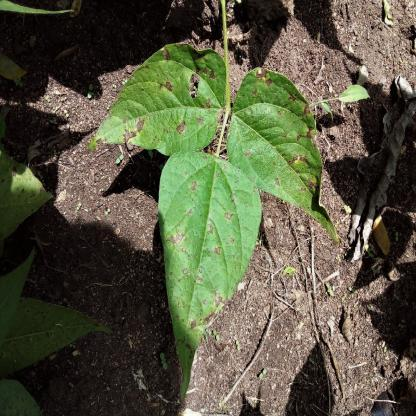Beans_Angular_LeafSpot: (153, 142, 265, 374), (231, 66, 336, 235), (94, 32, 223, 160)
